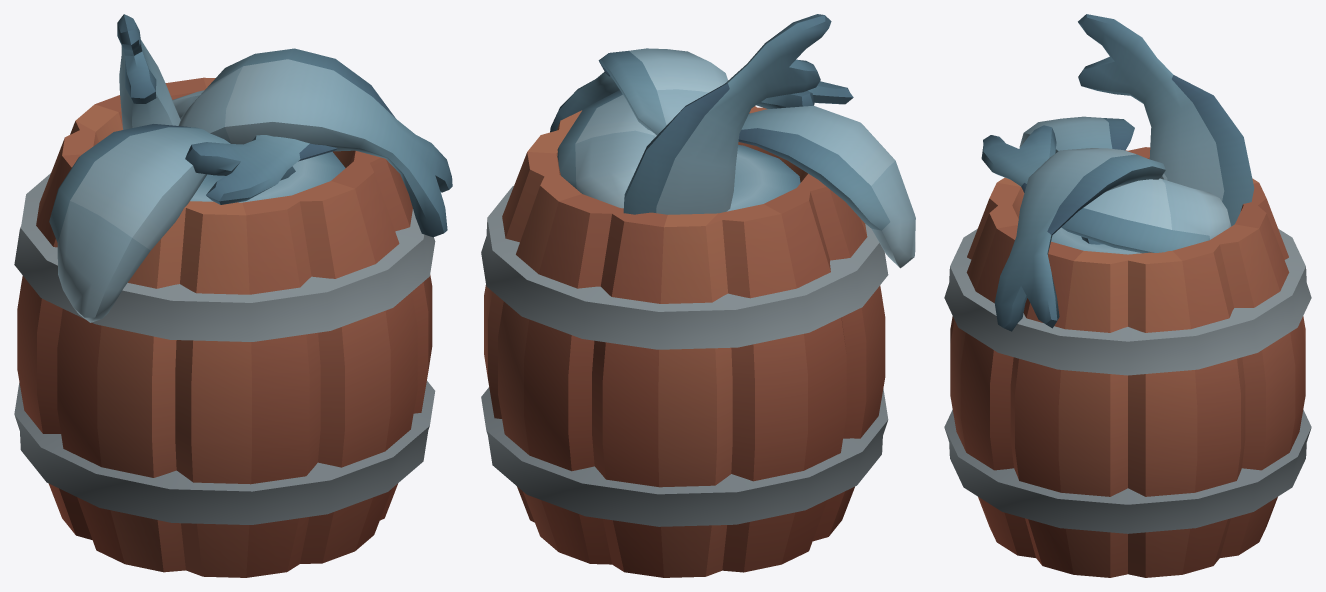
The model's file is food-barrel-fish.glb.
3 views of the same model, side by side, from view 1: azimuth 30°, elevation 25°; view 2: azimuth 150°, elevation 25°; view 3: azimuth 270°, elevation 25° (orthographic). The views are drawn at different scales.
Visible parts, largest first — view 1: Food_Barrel_Fish; view 2: Food_Barrel_Fish; view 3: Food_Barrel_Fish.
Part boxes in pixels (bbox=[...]): Food_Barrel_Fish: bbox=[14, 14, 452, 577]; Food_Barrel_Fish: bbox=[481, 14, 915, 577]; Food_Barrel_Fish: bbox=[944, 14, 1311, 577].
Bounding box in the file's own units: 1.29 × 1.71 × 1.25.
Materials: 1 (1 with a texture image).
